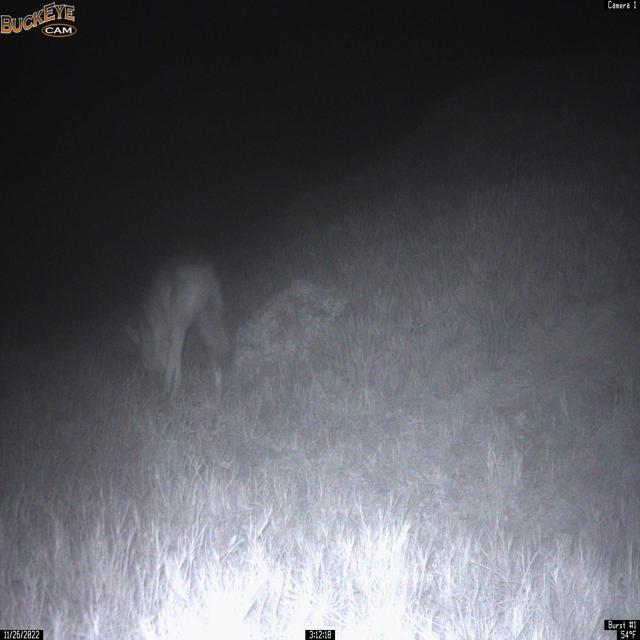coyote: (122, 249, 237, 407)
